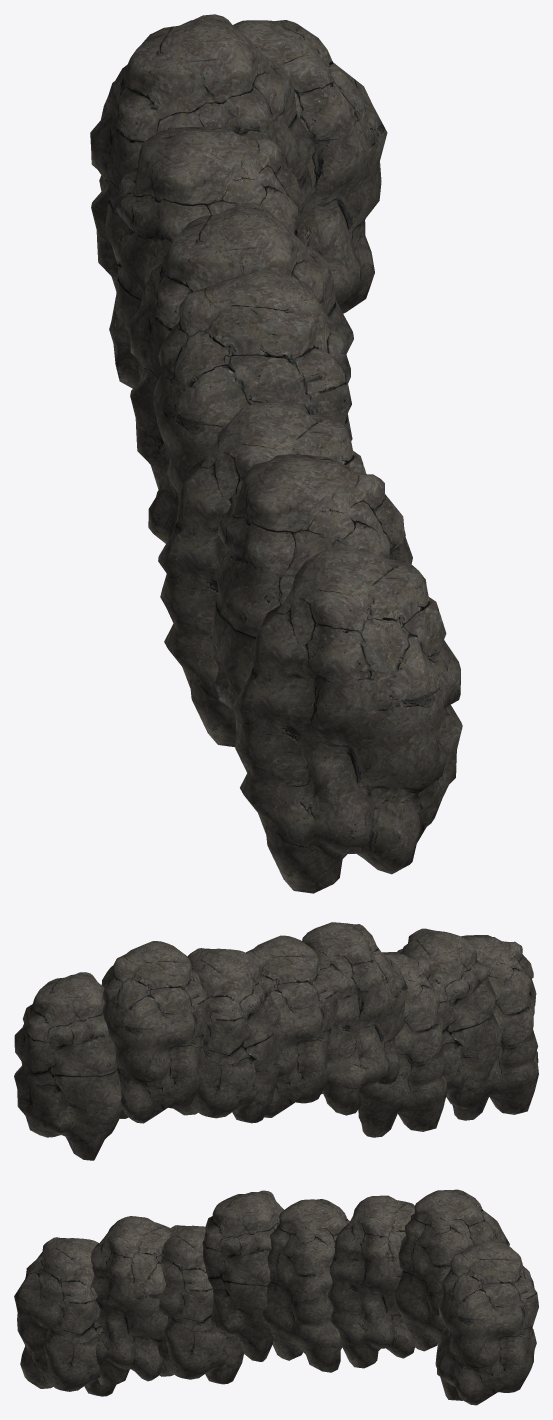
The model's file is TwinPeakRocksShape14.dae.
3 renders of one model, top to bottom at view 1: azimuth 30°, elevation 25°; view 2: azimuth 150°, elevation 25°; view 3: azimuth 270°, elevation 25°, orthographic. The views are drawn at different scales.
Visible parts, largest first — view 1: TwinPeakRocks14; view 2: TwinPeakRocks14; view 3: TwinPeakRocks14.
Boxes of the visible parts, x1,y1,x2,y2 form: TwinPeakRocks14: (90,14,462,893); TwinPeakRocks14: (14,922,538,1160); TwinPeakRocks14: (14,1189,538,1405).
Bounding box in the file's own units: 109 × 101 × 186.
